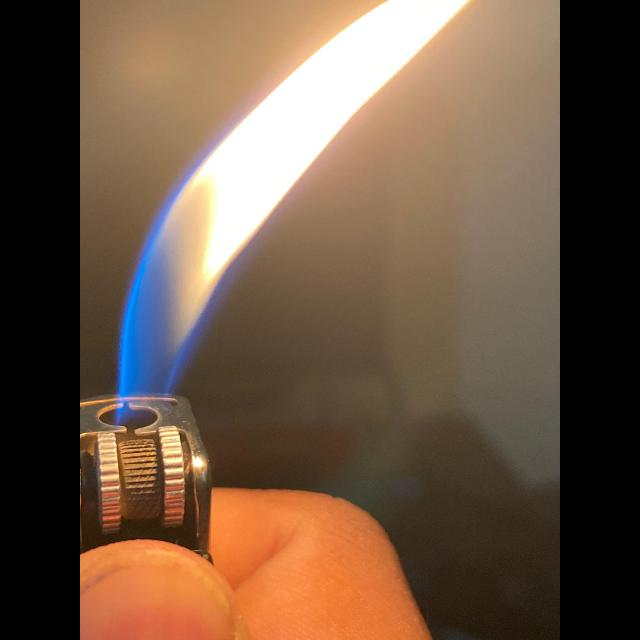fire: (118, 0, 469, 395)
